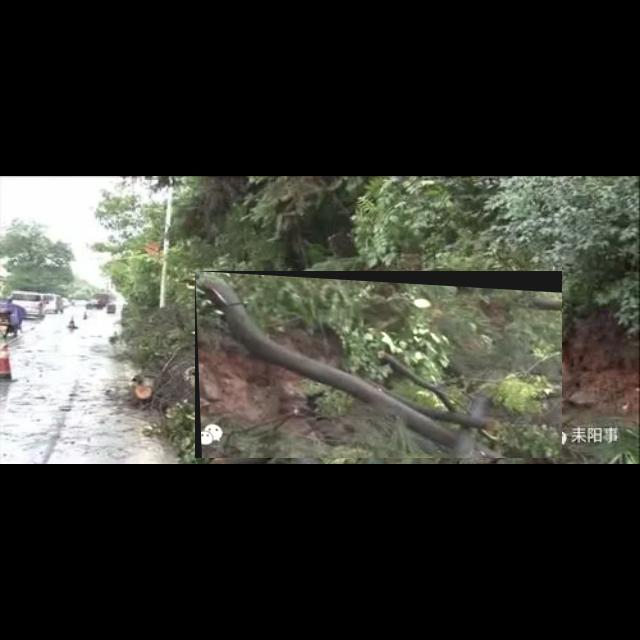fallen_tree: (195, 271, 563, 459)
